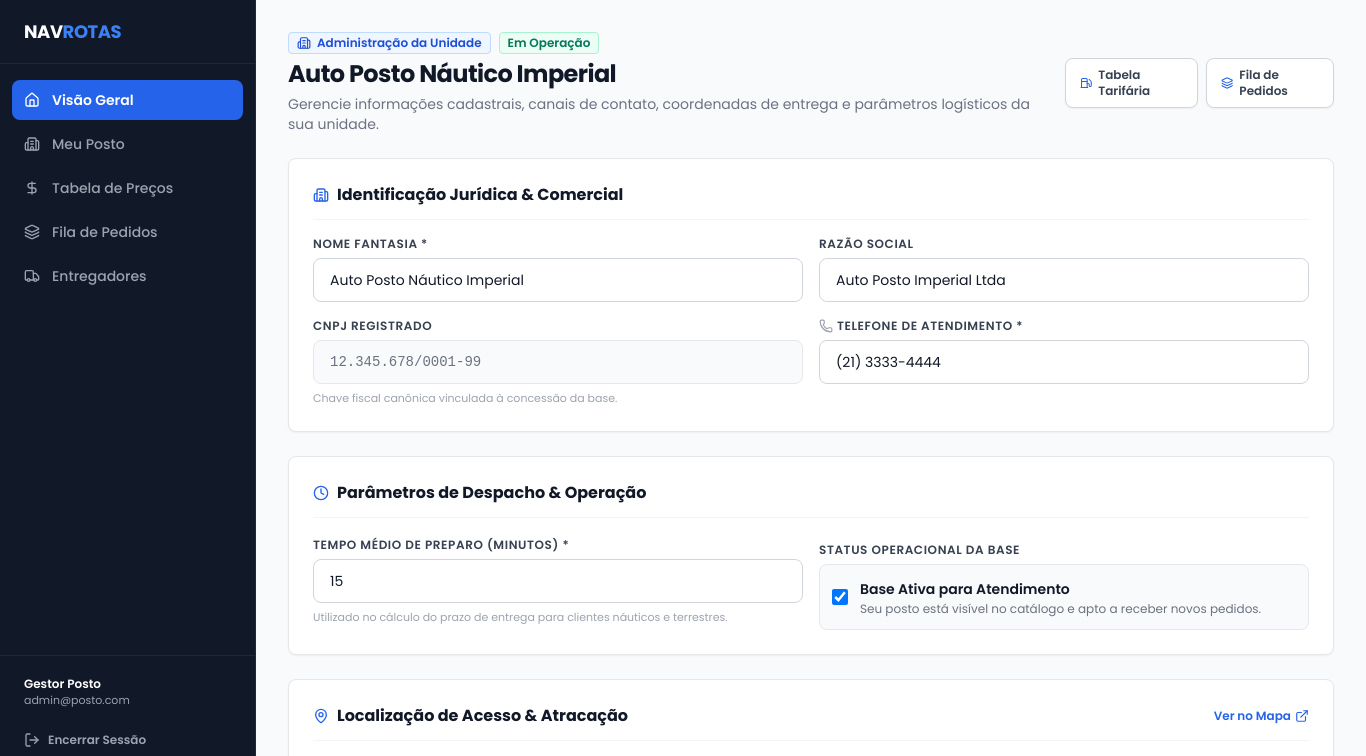
Test: PostoDadosPage › permite alterar campos e salvar enviando PUT para a API
Replace the text in the field labelled "Nome Fantasia *" with "Auto Posto Náutico Imperial Renovado" at (558, 280), box [313,258,803,302]
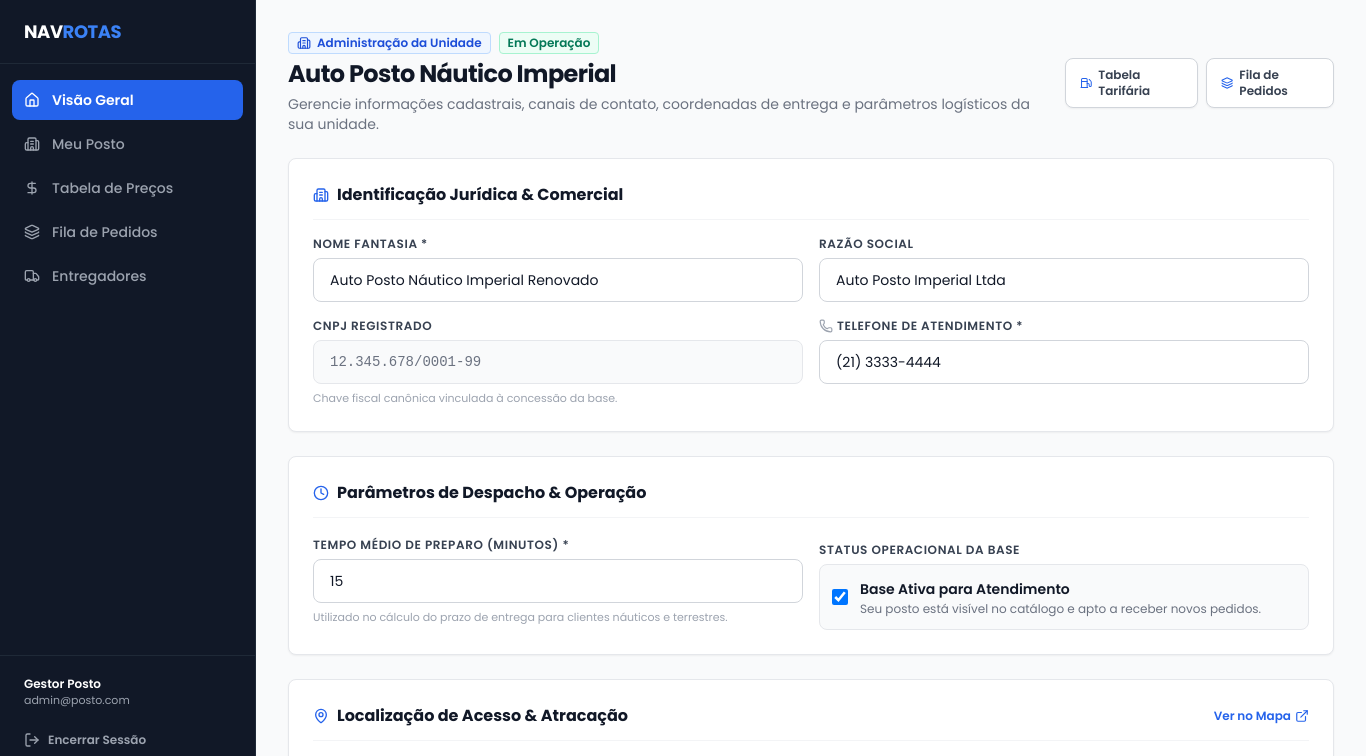
Replace the text in the number field labelled "Tempo Médio de Preparo (Minutos) *" with "20" at (558, 581), box [313,559,803,603]
(page scrolled)
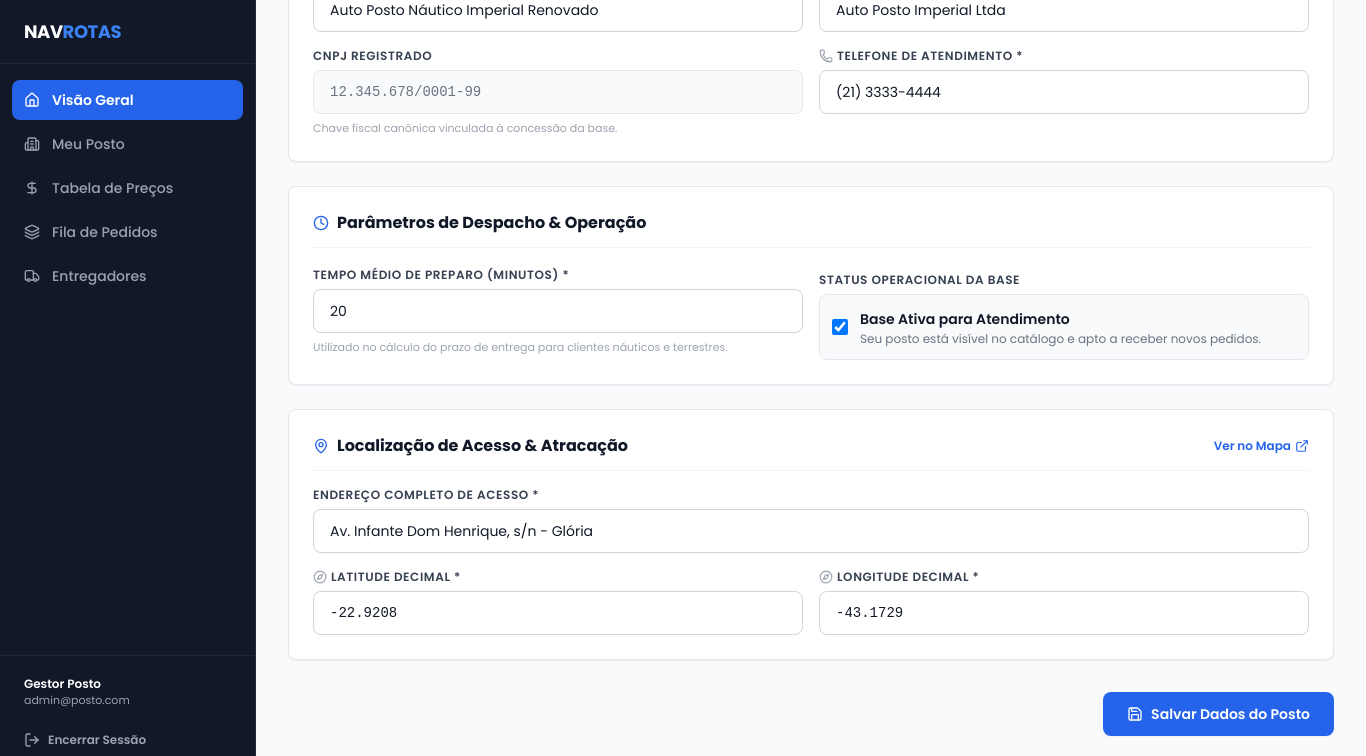
Click the button "Salvar Dados do Posto".
click(1219, 714)  # box [1103,692,1334,736]
(page scrolled)
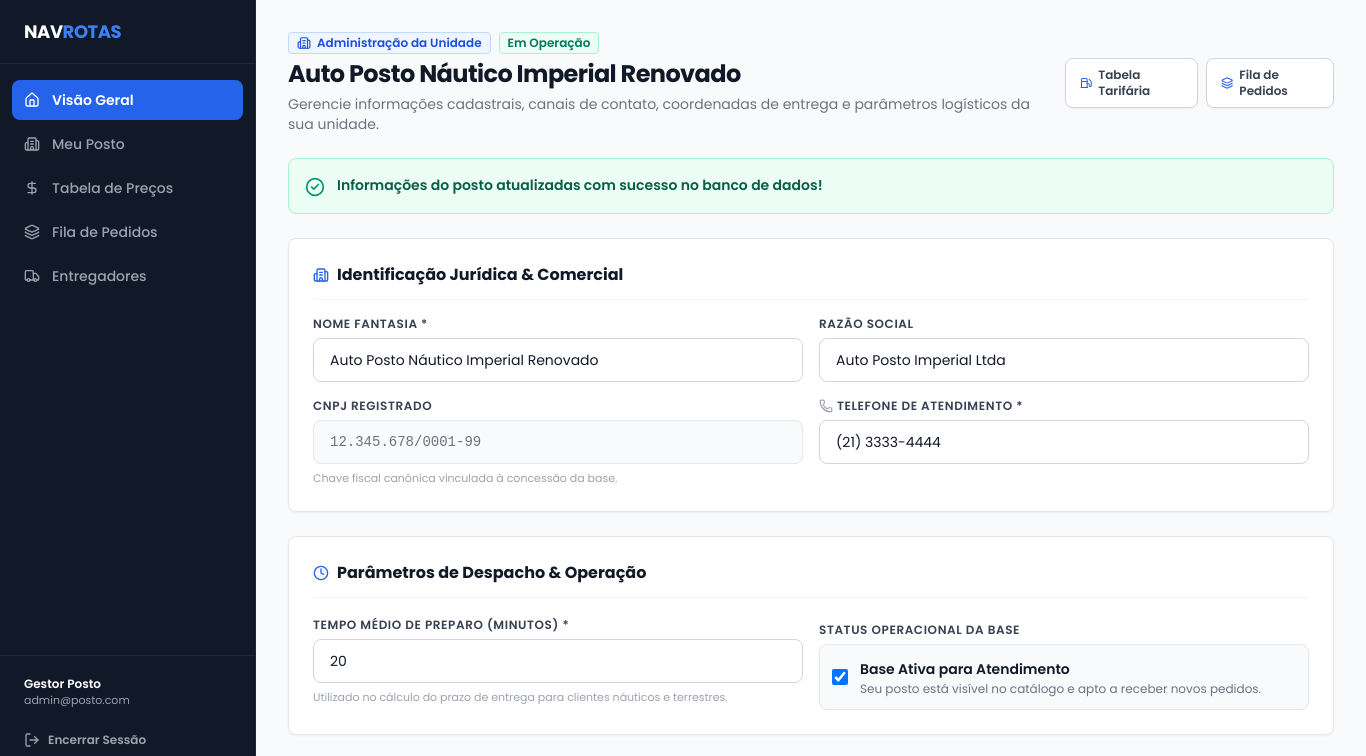
Expected: the text "Informações do posto atualizadas com sucesso" is shown, [337,175,823,195]
